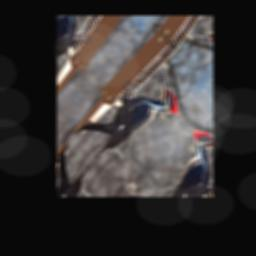Woodpecker: (70, 48, 190, 187)
